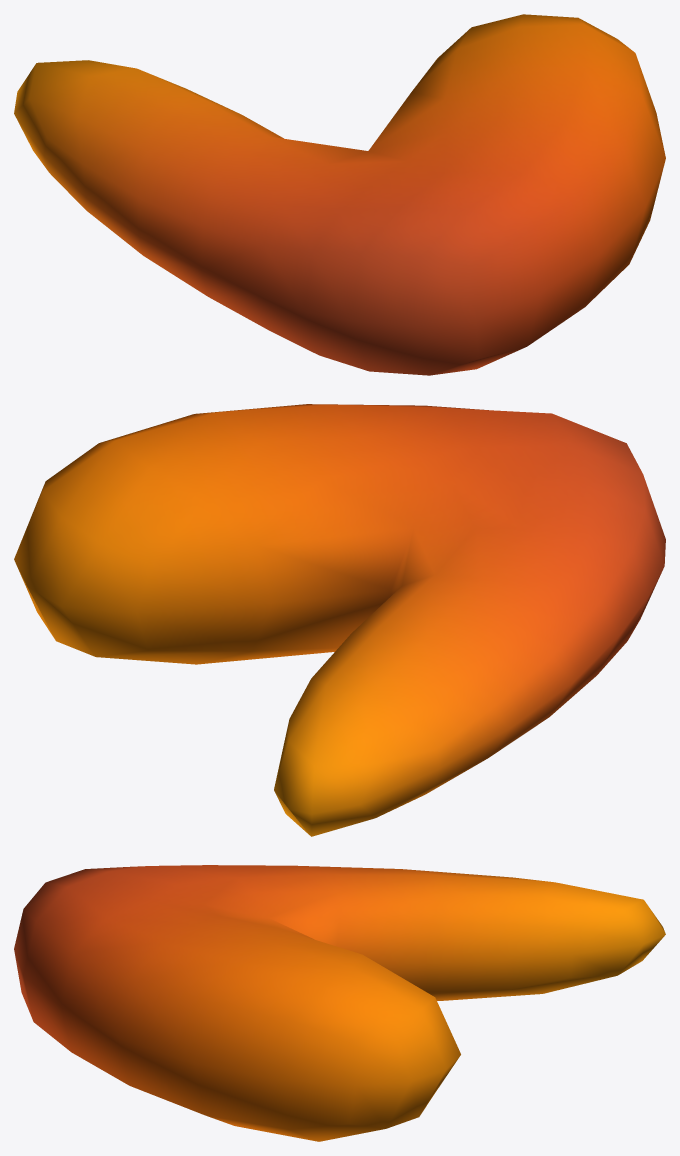
Rendered from chicken_003.fbx.
The picture shows the model from 3 angles, top to bottom: view 1: azimuth 30°, elevation 25°; view 2: azimuth 150°, elevation 25°; view 3: azimuth 270°, elevation 25°; orthographic projection. The views are drawn at different scales.
Visible parts, largest first — view 1: chicken_003; view 2: chicken_003; view 3: chicken_003.
Part boxes in pixels (x1,y1,x2,y2): chicken_003: (14,14,665,375); chicken_003: (14,404,665,836); chicken_003: (14,865,665,1141).
Size of the model in its own units: 10.09 by 12.99 by 3.54.
